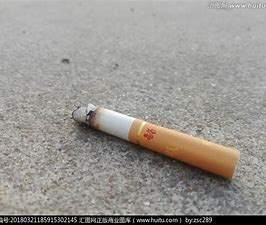cigarette: (69, 98, 243, 185)
